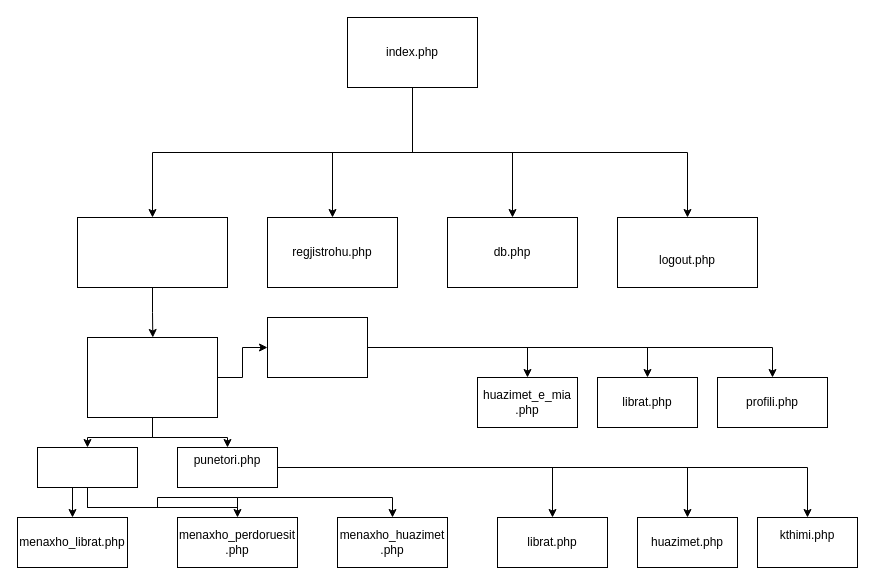
Some shapes in this 875 by 585 pixel diagram are drawn without their labels. Each missing label, with the centre of its shape:
"administratori.php" belongs at (87,467).
"dashboard.php" belongs at (152,377).
"login.php" belongs at (152,252).
"nxenesi" belongs at (317,347).
